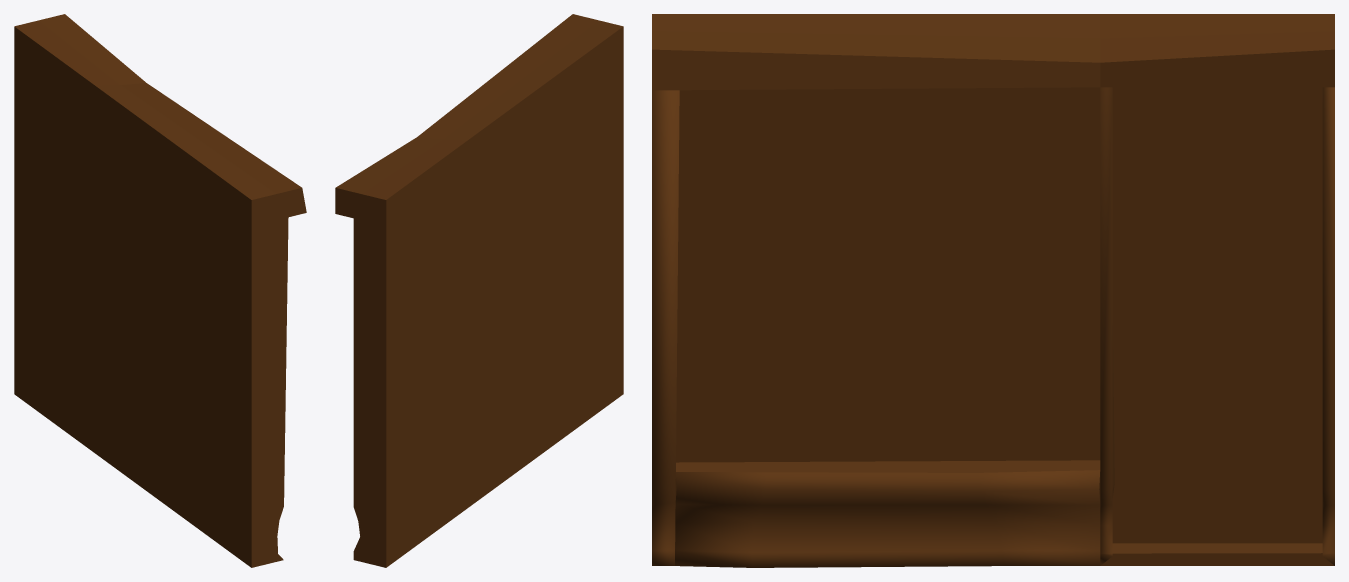
The model's file is HatShop.fbx.
3 views of the same model, side by side, from view 1: azimuth 30°, elevation 25°; view 2: azimuth 150°, elevation 25°; view 3: azimuth 270°, elevation 25° (orthographic). The views are drawn at different scales.
Parts seen in each view (by area): view 1: Cube.011; view 2: Cube.011; view 3: Cube.011.
Boxes of the visible parts, x1,y1,x2,y2 form: Cube.011: (14,14,306,567); Cube.011: (335,14,623,567); Cube.011: (652,14,1334,567).
Bounding box in the file's own units: 52.36 × 390 × 333.
